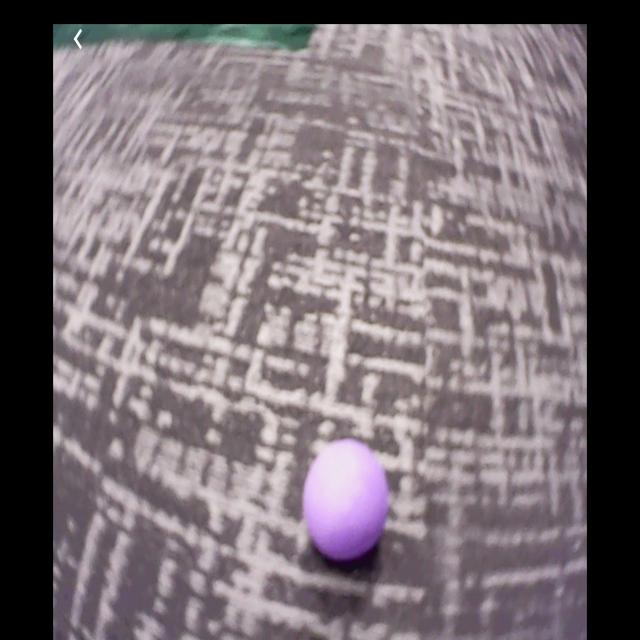ball: (306, 441, 388, 562)
